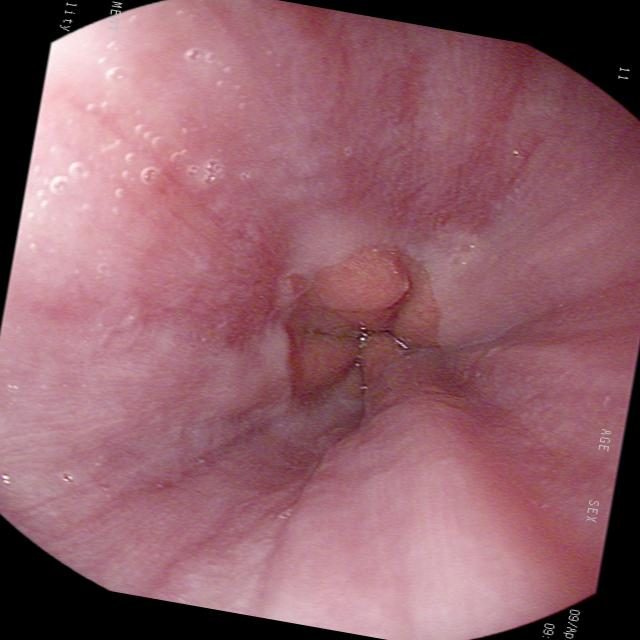Normal-Z-Line: (253, 241, 460, 426)
